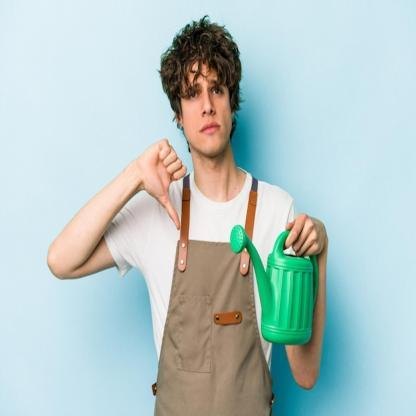thumb_down: (136, 135, 188, 234)
